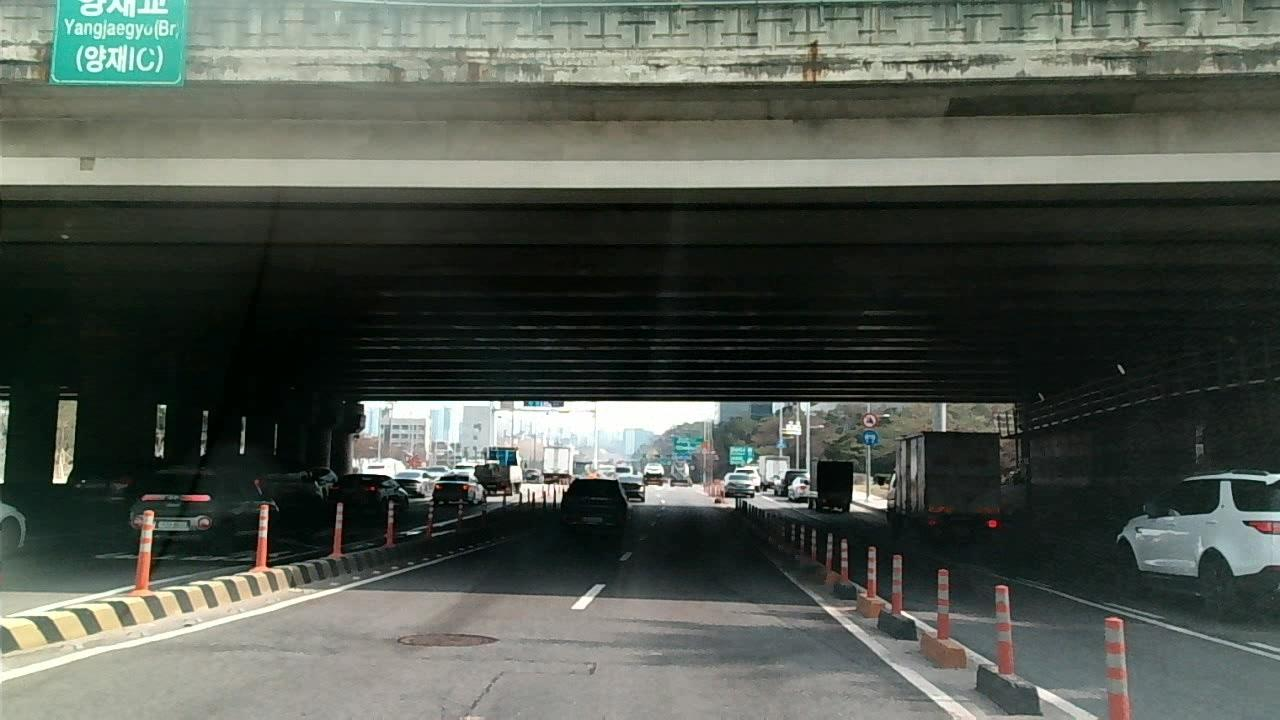vcrack: (458, 669, 505, 720)
